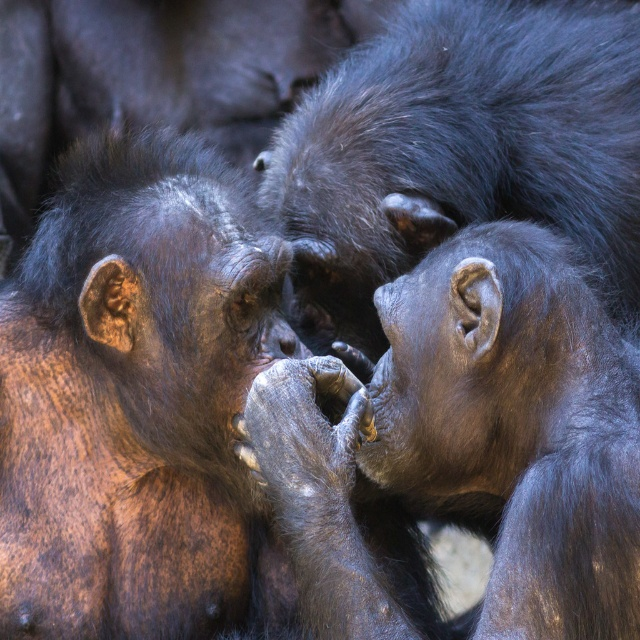Monkey: (231, 222, 640, 640), (0, 175, 313, 640), (257, 1, 640, 339), (0, 2, 398, 189)
